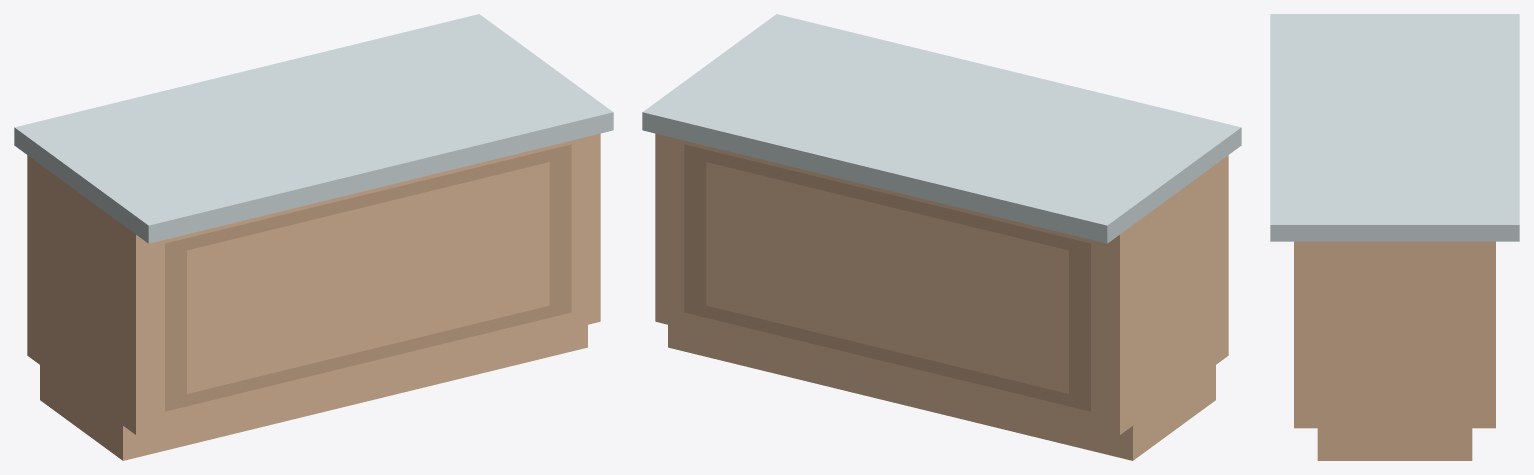
Rendered from kk-kitchenBar.glb.
The picture shows the model from 3 angles, left to right: view 1: azimuth 30°, elevation 25°; view 2: azimuth 150°, elevation 25°; view 3: azimuth 270°, elevation 25°; orthographic projection. The views are drawn at different scales.
Visible parts, largest first — view 1: kitchenBar(Clone); view 2: kitchenBar(Clone); view 3: kitchenBar(Clone).
Part boxes in pixels (box(x1,y1,x2,y2)): kitchenBar(Clone): box(14, 14, 613, 460); kitchenBar(Clone): box(642, 14, 1241, 460); kitchenBar(Clone): box(1270, 14, 1519, 460).
Bounding box in the file's own units: 1 × 0.5223 × 0.5001.
